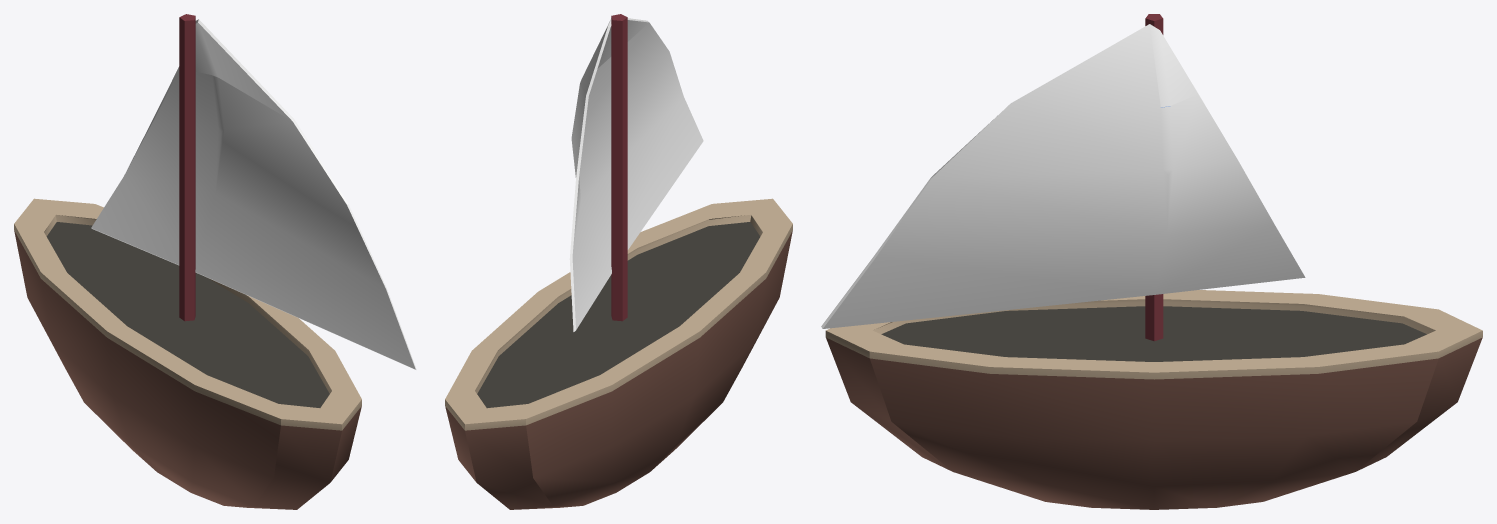
File: Boat.fbx
3 views of the same model, side by side, from view 1: azimuth 30°, elevation 25°; view 2: azimuth 150°, elevation 25°; view 3: azimuth 270°, elevation 25° (orthographic). The views are drawn at different scales.
Visible parts, largest first — view 1: Boat; view 2: Boat; view 3: Boat.
Part boxes in pixels (x1,y1,x2,y2): Boat: [14, 14, 416, 509]; Boat: [445, 14, 792, 509]; Boat: [821, 14, 1482, 509].
Size of the model in its own units: 0.156 by 0.4224 by 0.5174.
